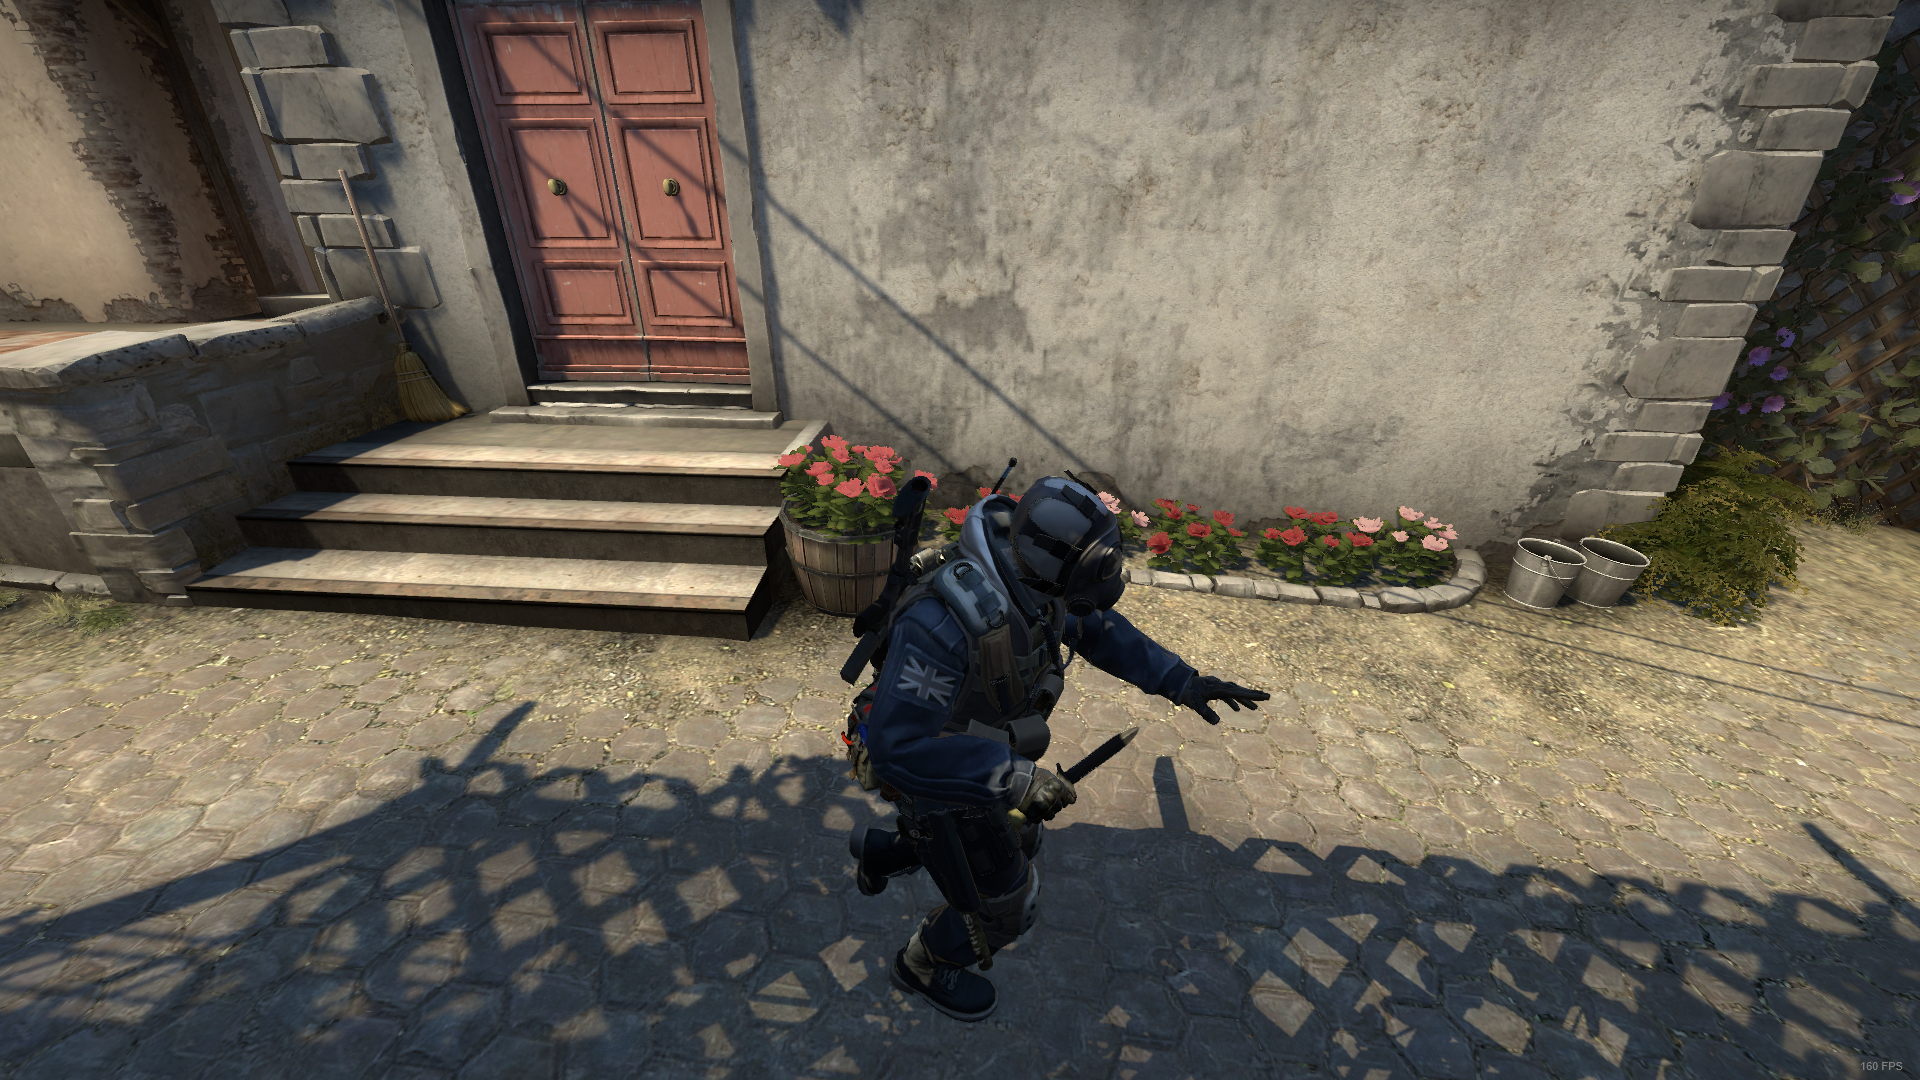ct: (858, 464, 1275, 1025)
